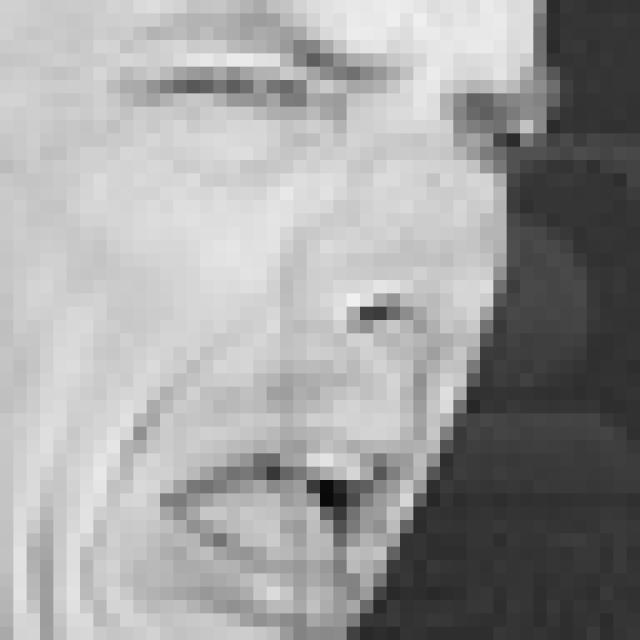disgust: (77, 15, 528, 640)
